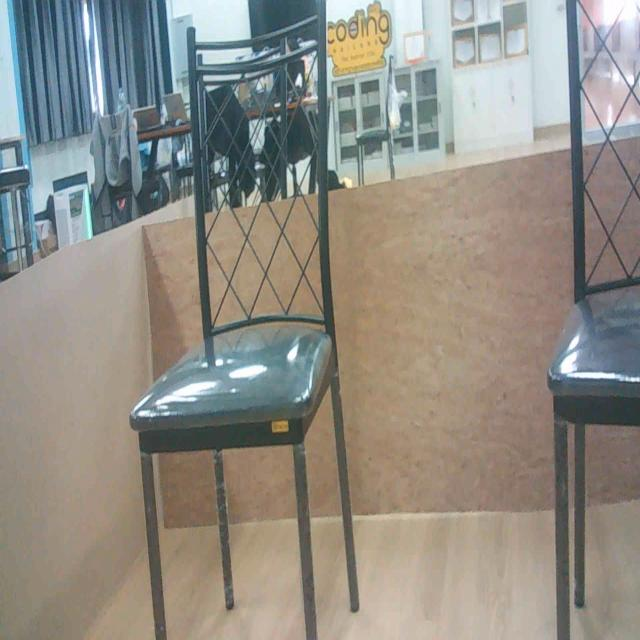emtpy: (130, 36, 356, 640), (520, 0, 640, 640)
